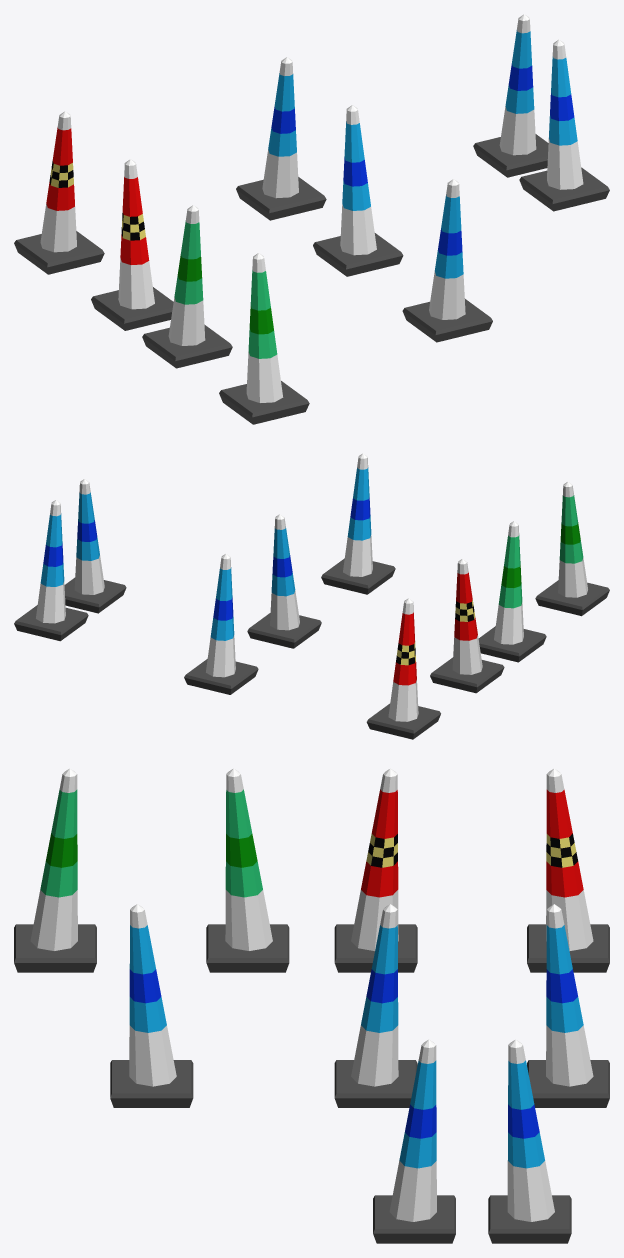
File: pylons.dae
3 views of the same model, one above another, from view 1: azimuth 30°, elevation 25°; view 2: azimuth 150°, elevation 25°; view 3: azimuth 270°, elevation 25° (orthographic). The views are drawn at different scales.
Parts seen in each view (by area): view 1: PylonRF-convcol, PylonRC-convcol, PylonRCT-convcol, PylonRS-convcol, PylonCS-convcol, PylonLCT-convcol, PylonLS-convcol, PylonlF-convcol, PylonLC-convcol, BaseLS-convcol, BaseCS-convcol, BaseLF-convcol (+6 smaller); view 2: PylonlF-convcol, PylonCS-convcol, PylonLCT-convcol, PylonLC-convcol, PylonLS-convcol, PylonRCT-convcol, PylonRF-convcol, PylonRC-convcol, PylonRS-convcol, BaseRS-convcol, BaseRC-convcol, BaseRF-convcol (+6 smaller); view 3: PylonRS-convcol, PylonLC-convcol, PylonRCT-convcol, PylonLS-convcol, PylonCS-convcol, PylonRC-convcol, PylonLCT-convcol, PylonlF-convcol, PylonRF-convcol, BaseLCT-convcol, BaseLS-convcol, BaseRCT-convcol (+6 smaller).
Boxes of the visible parts, x1=… form: PylonRF-convcol: x1=118, y1=159, x2=154, y2=309; PylonRC-convcol: x1=340, y1=105, x2=376, y2=255; PylonRCT-convcol: x1=547, y1=39, x2=583, y2=189; PylonRS-convcol: x1=246, y1=253, x2=283, y2=402; PylonCS-convcol: x1=429, y1=179, x2=465, y2=319; PylonLCT-convcol: x1=499, y1=14, x2=536, y2=155; PylonLS-convcol: x1=168, y1=205, x2=205, y2=345; PylonlF-convcol: x1=40, y1=111, x2=76, y2=252; PylonLC-convcol: x1=262, y1=57, x2=298, y2=198; BaseLS-convcol: x1=142, y1=324, x2=232, y2=368; BaseCS-convcol: x1=402, y1=298, x2=492, y2=342; BaseLF-convcol: x1=14, y1=231, x2=104, y2=274; PylonlF-convcol: x1=388, y1=598, x2=418, y2=721; PylonCS-convcol: x1=343, y1=453, x2=372, y2=576; PylonLCT-convcol: x1=36, y1=500, x2=65, y2=623; PylonLC-convcol: x1=206, y1=554, x2=235, y2=677; PylonLS-convcol: x1=494, y1=521, x2=523, y2=644; PylonRCT-convcol: x1=74, y1=479, x2=104, y2=594; PylonRF-convcol: x1=452, y1=559, x2=482, y2=674; PylonRC-convcol: x1=270, y1=514, x2=299, y2=630; PylonRS-convcol: x1=558, y1=482, x2=587, y2=597; BaseRS-convcol: x1=535, y1=580, x2=609, y2=616; BaseRC-convcol: x1=247, y1=613, x2=321, y2=648; BaseRF-convcol: x1=430, y1=657, x2=504, y2=693; PylonRS-convcol: x1=30, y1=768, x2=77, y2=950; PylonLC-convcol: x1=546, y1=904, x2=593, y2=1086; PylonRCT-convcol: x1=389, y1=1039, x2=436, y2=1221; PylonLS-convcol: x1=225, y1=768, x2=272, y2=950; PylonCS-convcol: x1=129, y1=904, x2=176, y2=1086; PylonRC-convcol: x1=351, y1=904, x2=398, y2=1086; PylonLCT-convcol: x1=507, y1=1039, x2=554, y2=1221; PylonlF-convcol: x1=546, y1=768, x2=593, y2=950; PylonRF-convcol: x1=351, y1=768, x2=398, y2=950; BaseLCT-convcol: x1=488, y1=1195, x2=571, y2=1243; BaseLS-convcol: x1=206, y1=924, x2=289, y2=972; BaseRCT-convcol: x1=373, y1=1195, x2=455, y2=1243.
Bounding box in the file's own units: 113 × 92.96 × 32.37.
